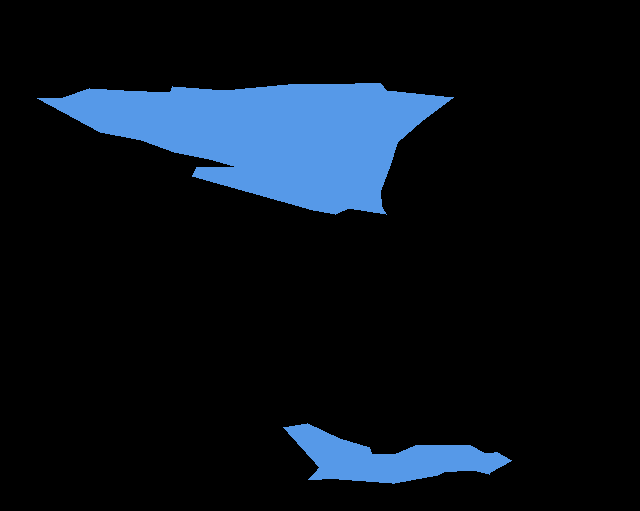Airplane: (37, 83, 454, 214), (283, 423, 512, 483)
